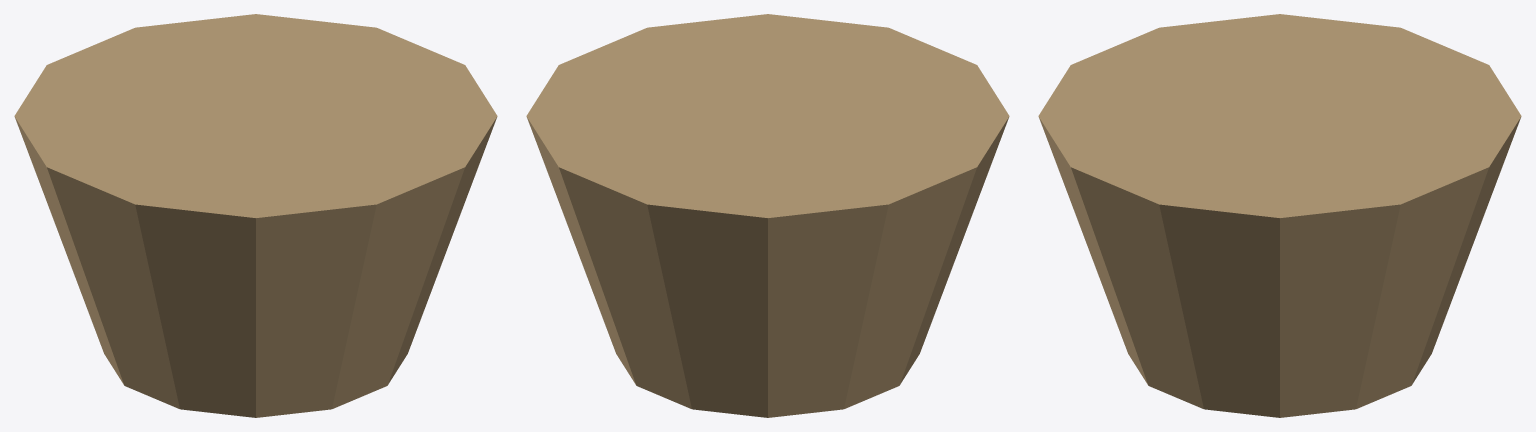
The model's file is basket-normal.glb.
The picture shows the model from 3 angles, left to right: view 1: azimuth 30°, elevation 25°; view 2: azimuth 150°, elevation 25°; view 3: azimuth 270°, elevation 25°; orthographic projection.
Parts seen in each view (by area): view 1: basket; view 2: basket; view 3: basket.
Part boxes in pixels (x1,y1,x2,y2): basket: (14, 14, 497, 417); basket: (526, 14, 1009, 417); basket: (1038, 14, 1521, 417).
Bounding box in the file's own units: 0.7 × 0.38 × 0.7.
